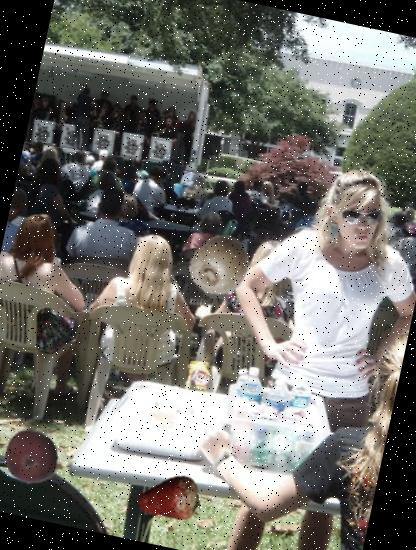Kiwi: (182, 228, 256, 302)
Pomegranate: (0, 425, 63, 489)
Strawberry: (132, 464, 204, 536)
